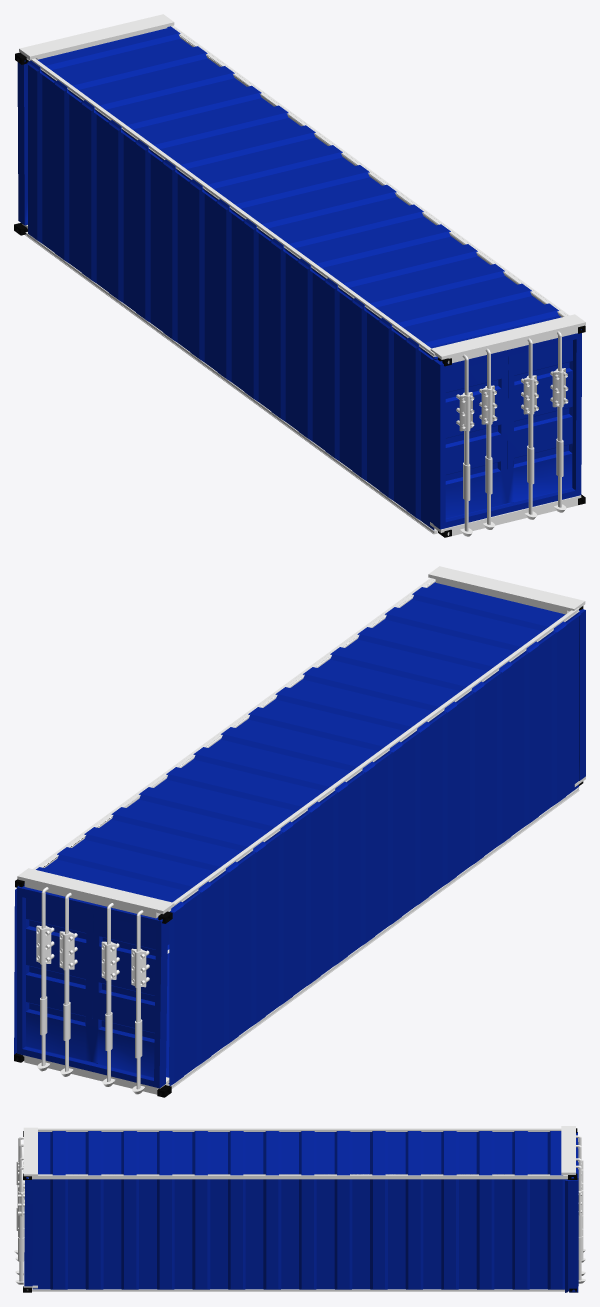
File: Container_Blue.fbx
3 renders of one model, top to bottom at view 1: azimuth 30°, elevation 25°; view 2: azimuth 150°, elevation 25°; view 3: azimuth 270°, elevation 25°, orthographic. The views are drawn at different scales.
Visible parts, largest first — view 1: _002; view 2: _002; view 3: _002.
Part boxes in pixels (x1,y1,x2,y2): _002: (14,14,585,537); _002: (14,566,585,1097); _002: (14,1126,585,1292).
Size of the model in its own units: 248 by 291 by 1244.
